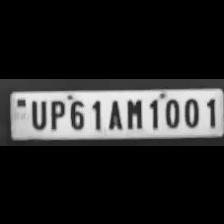0: (161, 95, 181, 127), (180, 96, 200, 127)
1: (202, 94, 220, 128), (88, 96, 104, 130), (144, 96, 160, 128)
6: (66, 96, 86, 130)
A: (103, 96, 123, 130)
M: (124, 95, 144, 129)
P: (46, 97, 66, 129)
U: (26, 97, 48, 129)
